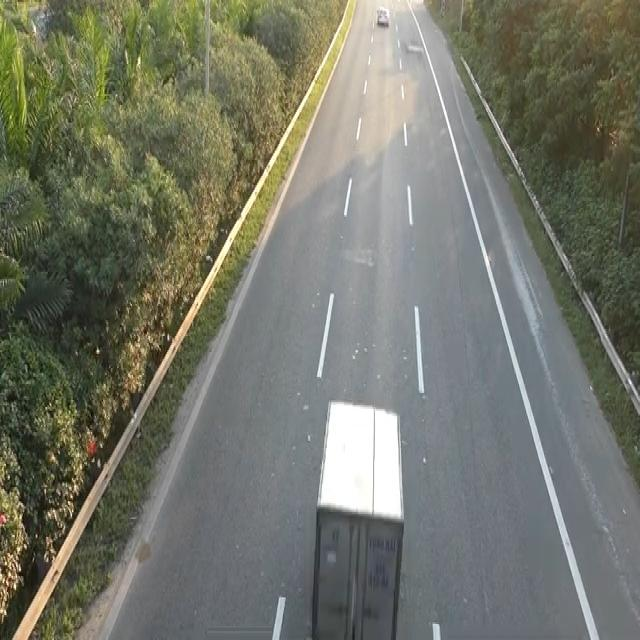minivan: (308, 393, 406, 635)
